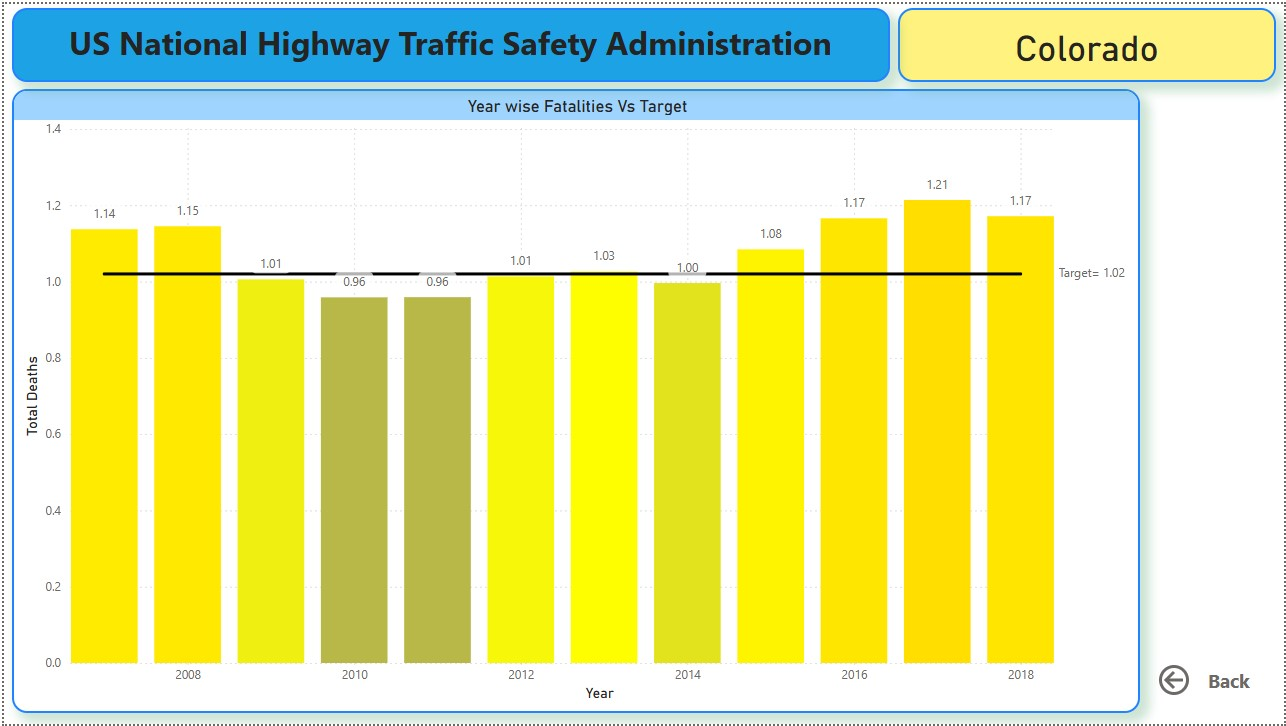

What the dashboard file says about the page in this screenshot:
{"tool":"powerbi","page":{"name":"Fatality Rate","canvas":[1280,720],"ordinal":3},"visuals":[{"type":"lineStackedColumnComboChart","title":"Year wise Fatalities Vs Target","fields":{"Category":["PA - Driving Safety.Year"],"Y2":["Sum(PA - Driving Safety.Target1.02)"],"Y":["Avg(PA - Driving Safety.Deaths per 100 million vehicle miles traveled)"]},"box":[8.1,84.7,1127.8,623.9],"z":0},{"type":"card","title":"Selected US State","fields":{"Values":["Min(PA - Driving Safety.State)"]},"box":[894,4,378,73.6],"z":1000},{"type":"textbox","box":[8.1,4,877.9,73.6],"z":2000},{"type":"actionButton","box":[1150,656.1,99.8,40.3],"z":3000}]}

Visuals, with their boxes in screenshot pixels (x1, y1, x2, y2), scaled from the page's 1280x720 canvas onto the 1286x726 screenshot:
"Year wise Fatalities Vs Target" lineStackedColumnComboChart: pyautogui.locateOnScreen(8, 85, 1141, 715)
"Selected US State" card: pyautogui.locateOnScreen(898, 4, 1278, 78)
textbox: pyautogui.locateOnScreen(8, 4, 890, 78)
actionButton: pyautogui.locateOnScreen(1155, 662, 1256, 702)
